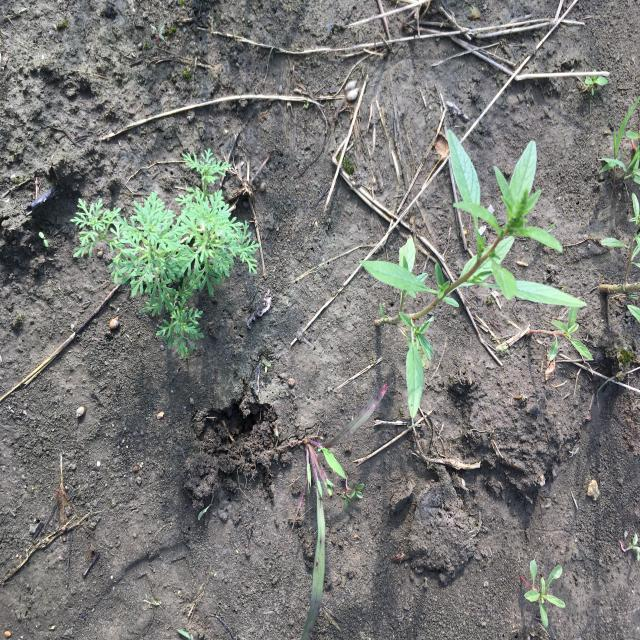Ragweed: (69, 146, 262, 363)
Waterhemp: (359, 126, 589, 420), (519, 559, 568, 631)
